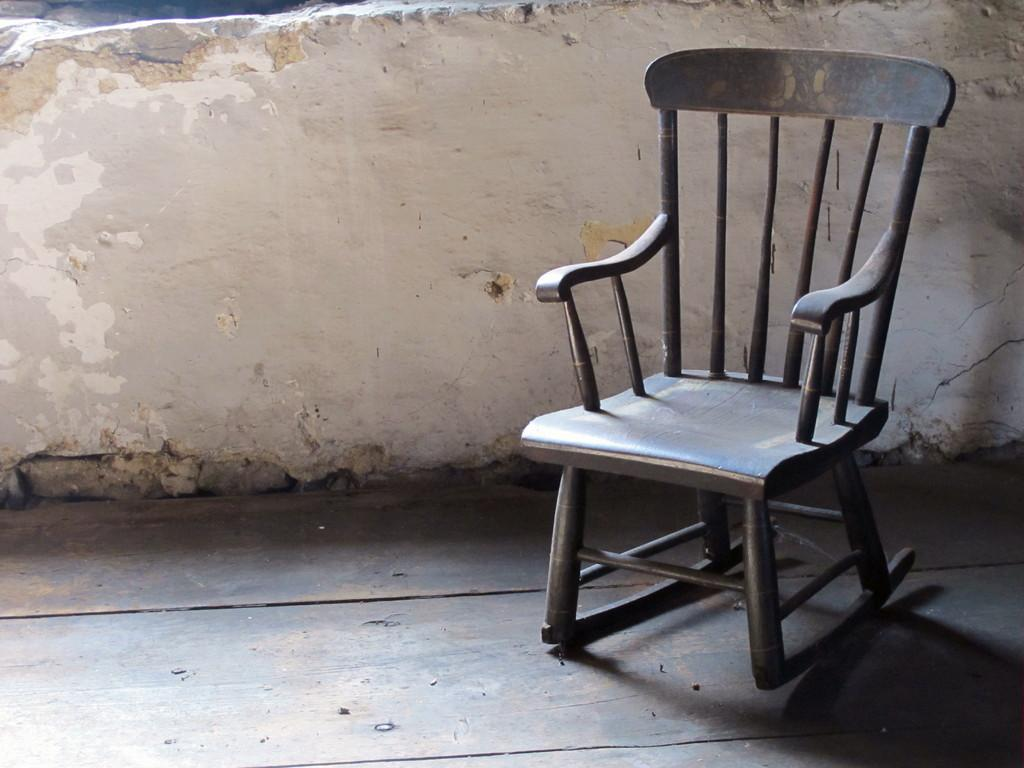Chair: (517, 42, 954, 699)
